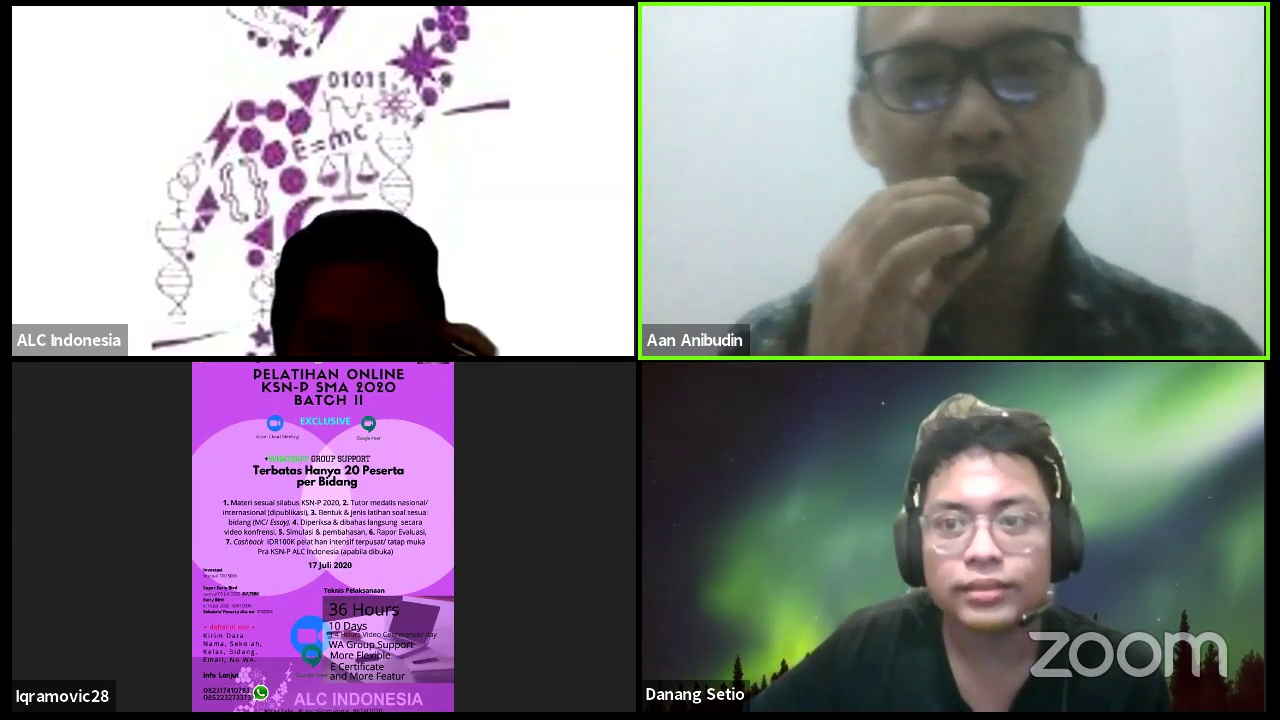Distracted: (848, 20, 1102, 252)
Not Distracted: (888, 423, 1089, 651), (269, 234, 469, 356)
